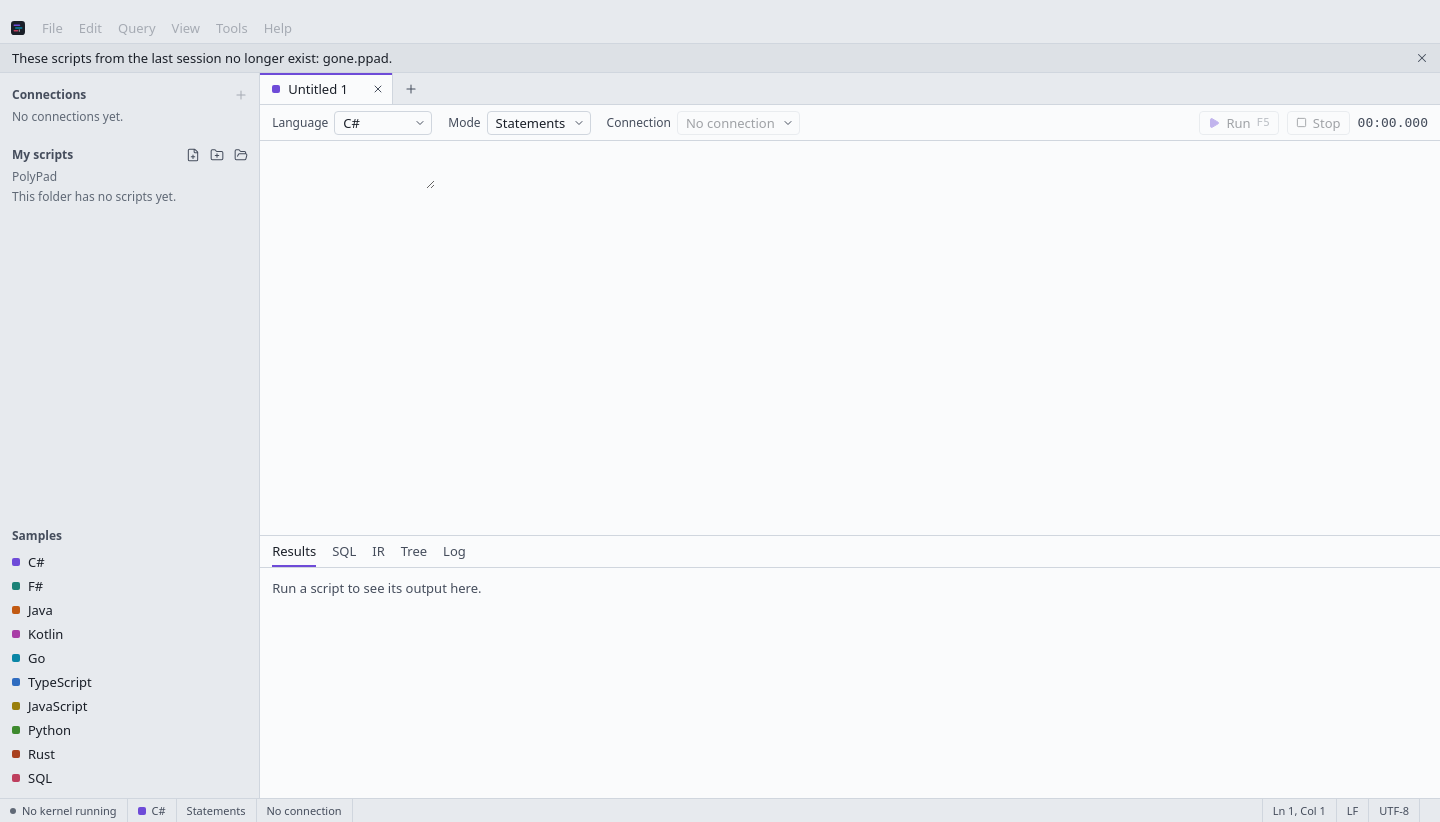
Test: starting up › tells which scripts of the last session are gone, until dismissed
The image size is (1440, 822).
Clear the text box named "Editor text" at (348, 169), box left=260, top=149, right=435, bottom=189
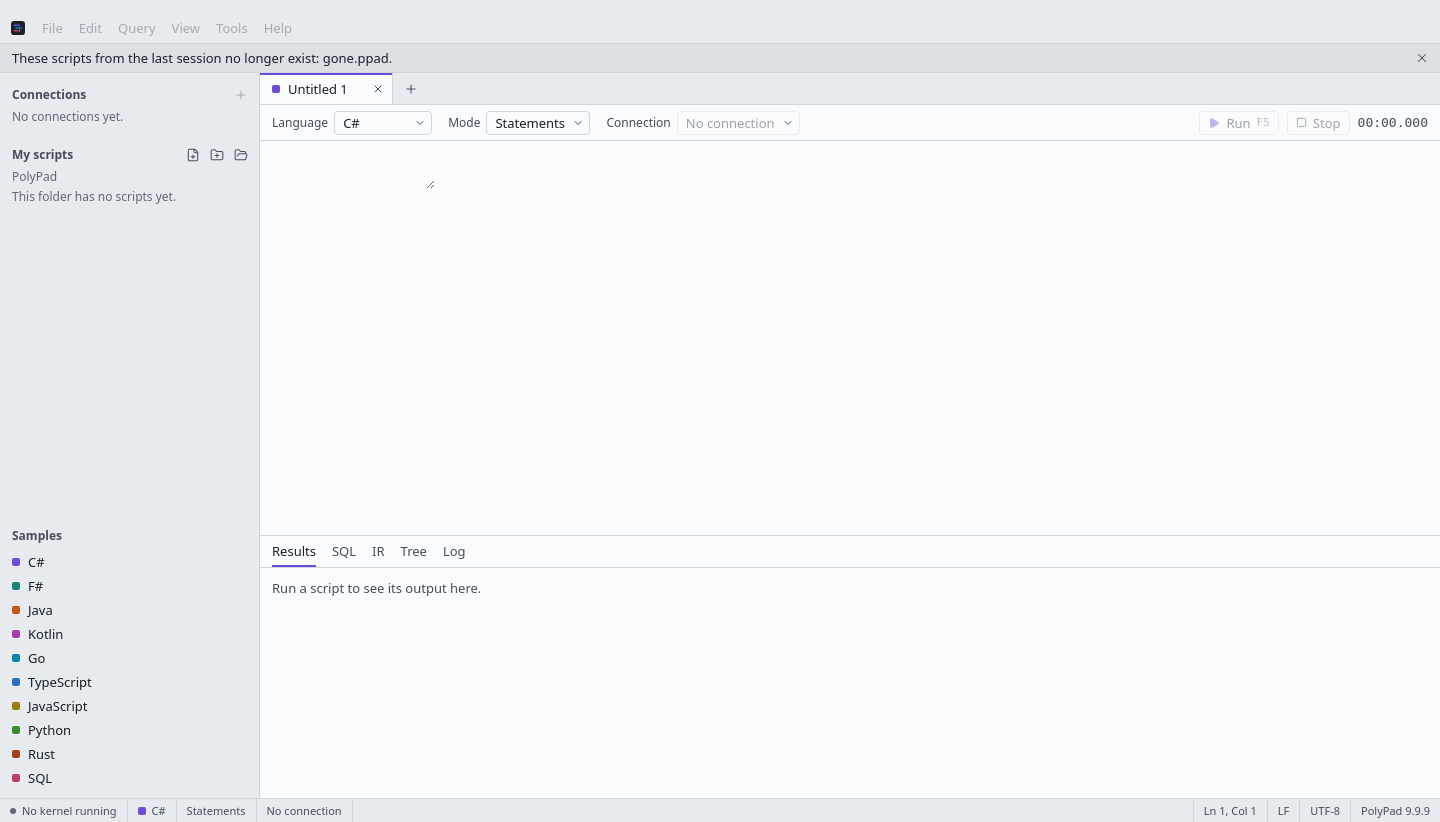
Check: the element named "Open scripts" is shown, box left=260, top=73, right=393, bottom=104
Check: the message reads "These scripts from the last session no longer exist: gone.ppad.", box left=12, top=49, right=392, bottom=67
Click the button named "Dismiss" at (1422, 58), box left=1410, top=46, right=1434, bottom=70
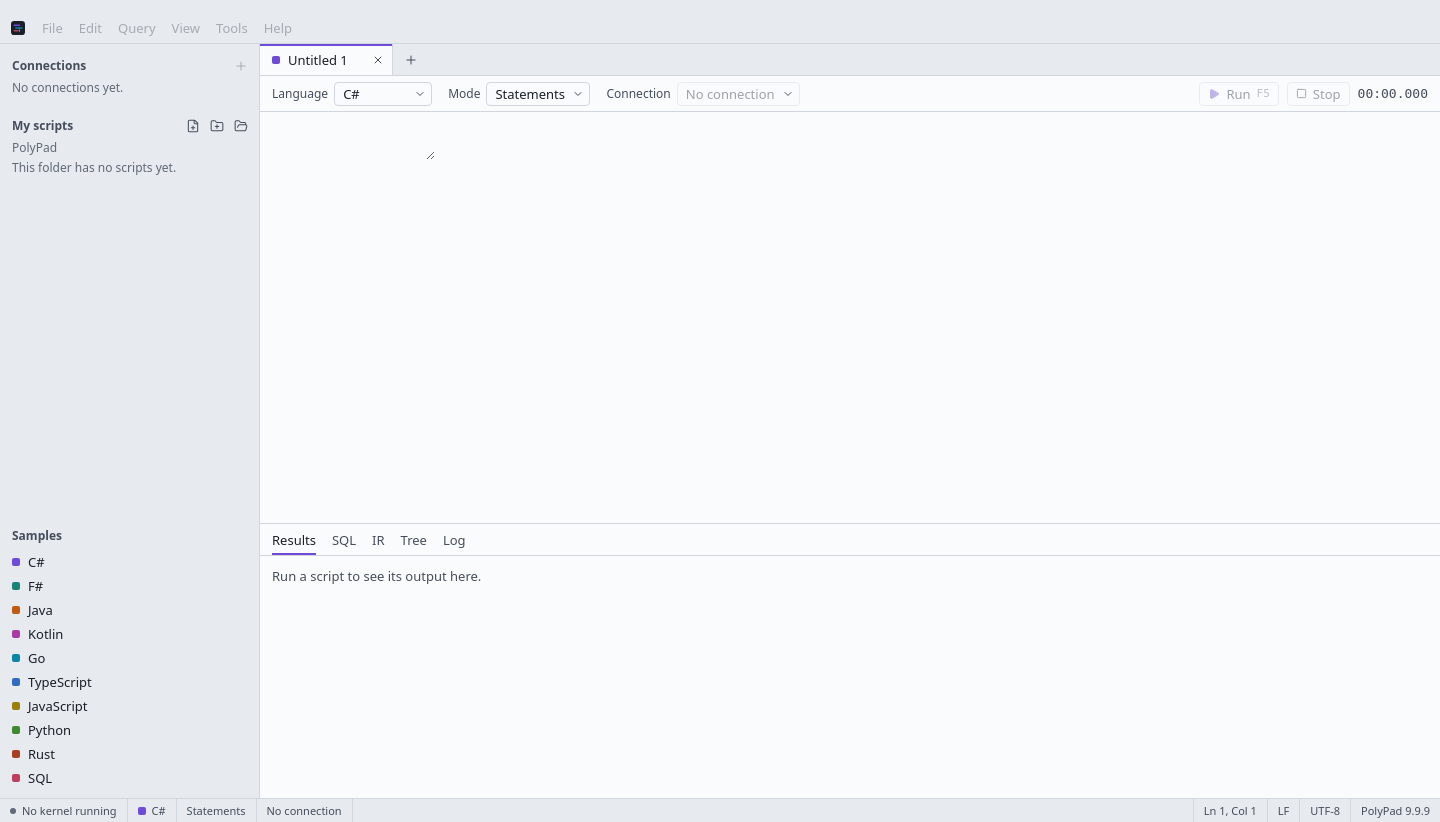
Check: the message "These scripts from the last session no longer exist: gone.ppad." is gone
